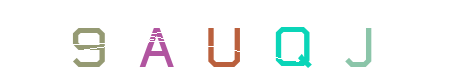9: (116, 0, 196, 80)
A: (145, 0, 225, 80)
J: (253, 0, 333, 80)
Q: (199, 0, 279, 80)
U: (185, 0, 265, 80)
